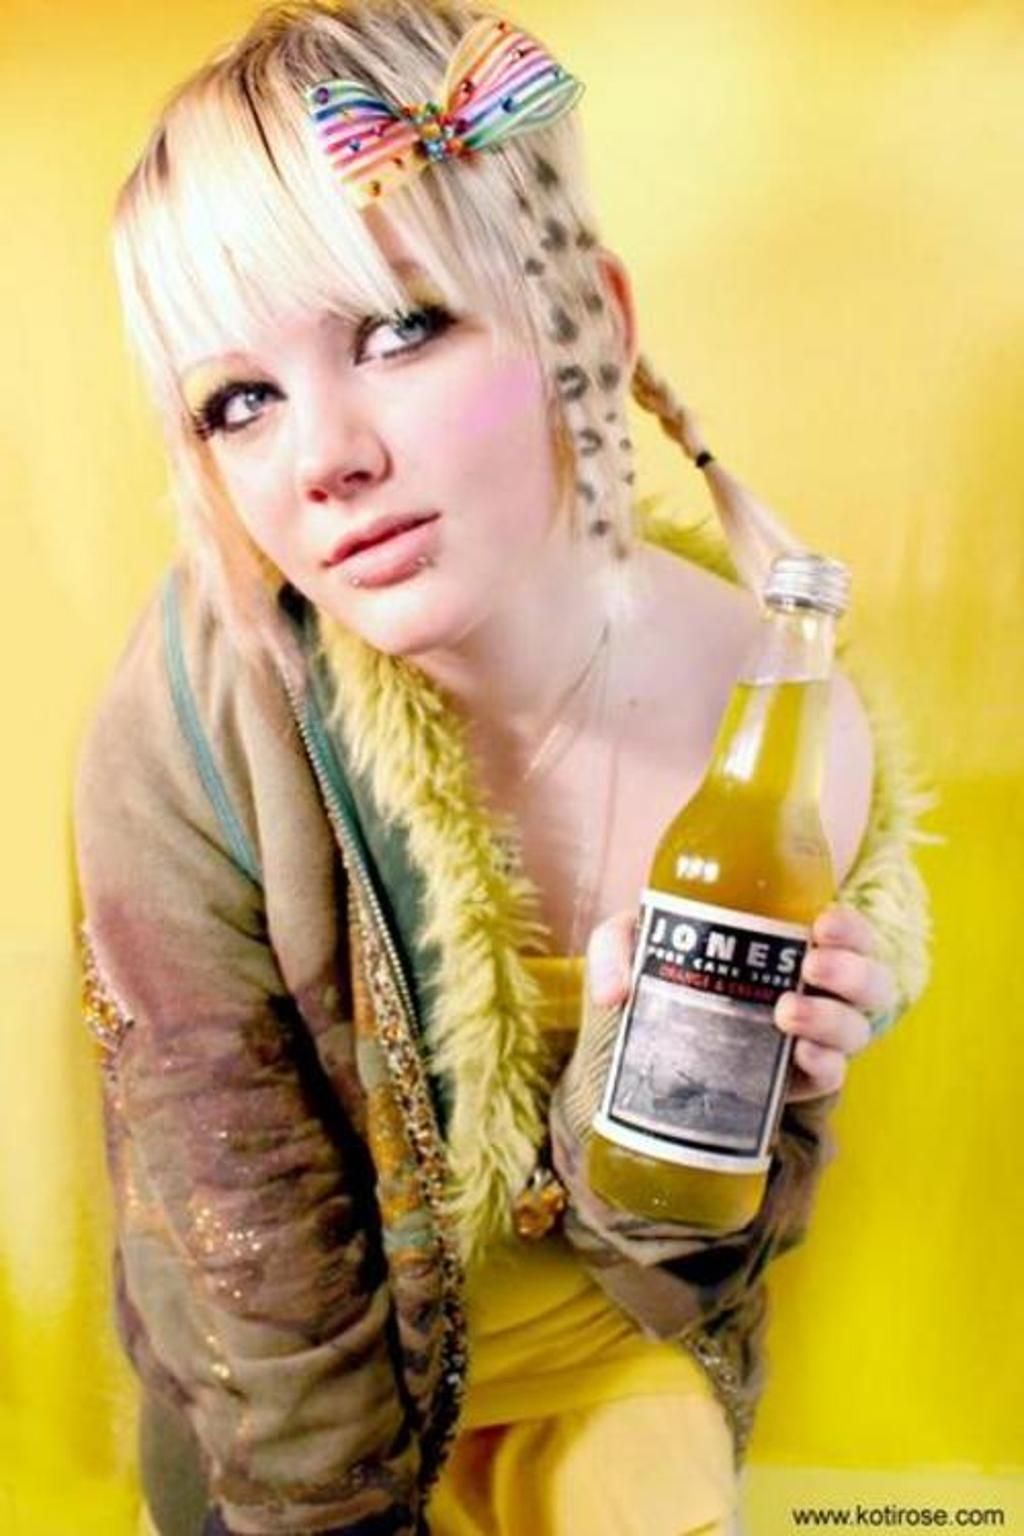face: (184, 235, 550, 652)
